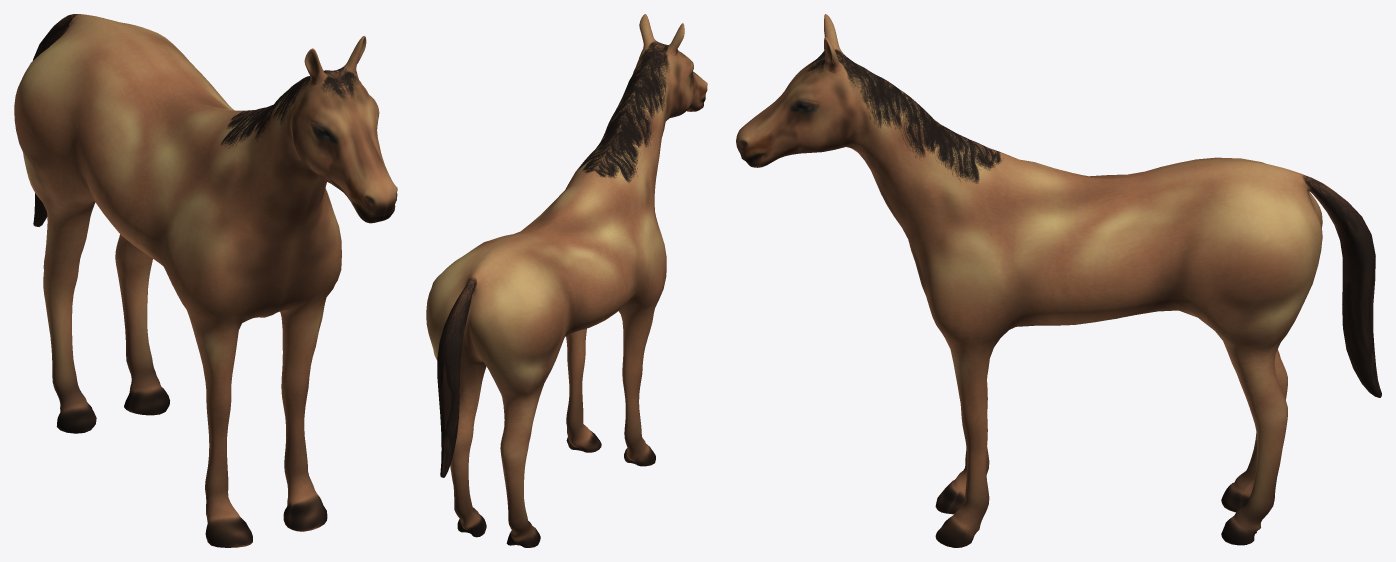
File: HorseBody.fbx
3 views of the same model, side by side, from view 1: azimuth 30°, elevation 25°; view 2: azimuth 150°, elevation 25°; view 3: azimuth 270°, elevation 25° (orthographic). The views are drawn at different scales.
Parts seen in each view (by area): view 1: Horse_Base; view 2: Horse_Base; view 3: Horse_Base.
Boxes of the visible parts, x1,y1,x2,y2 form: Horse_Base: [14, 14, 397, 547]; Horse_Base: [426, 14, 707, 547]; Horse_Base: [736, 14, 1381, 547].
Bounding box in the file's own units: 75.33 × 236 × 278.
Materials: 1 (1 with a texture image).
